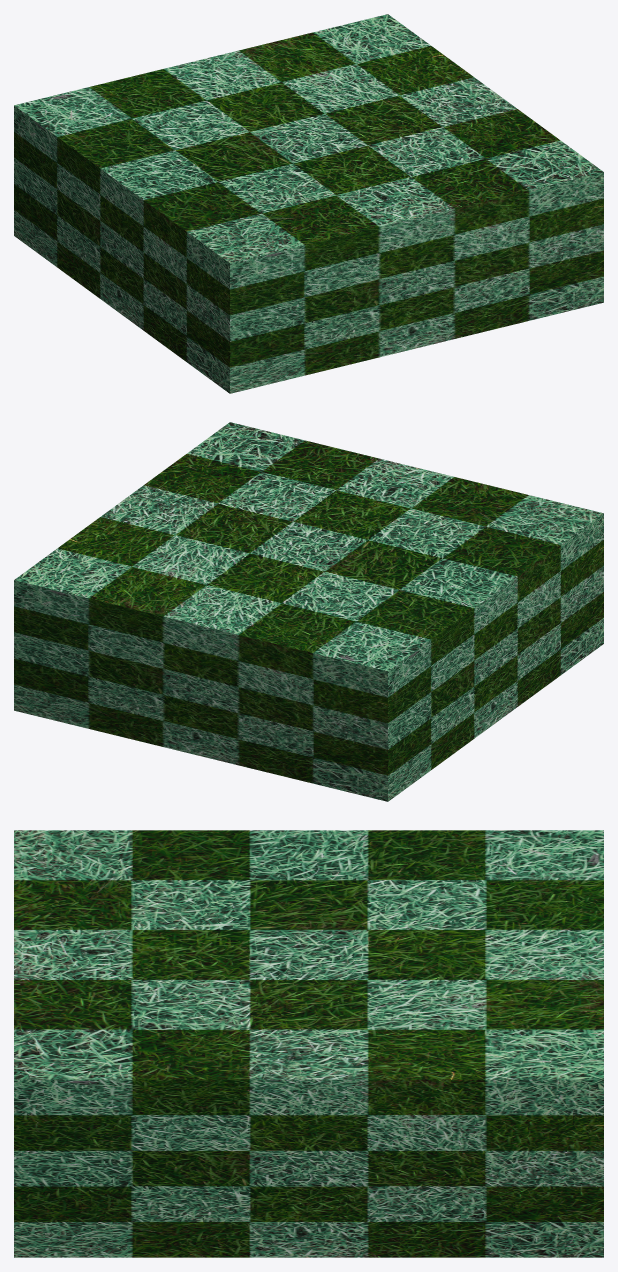
The model's file is Floor1.fbx.
3 views of the same model, one above another, from view 1: azimuth 30°, elevation 25°; view 2: azimuth 150°, elevation 25°; view 3: azimuth 270°, elevation 25° (orthographic). The views are drawn at different scales.
Visible parts, largest first — view 1: Floor.001; view 2: Floor.001; view 3: Floor.001.
Boxes of the visible parts, box(x1,y1,x2,y2) form: Floor.001: box(14, 14, 603, 393); Floor.001: box(14, 422, 603, 801); Floor.001: box(14, 830, 603, 1257).
Bounding box in the file's own units: 150 × 50 × 150.
